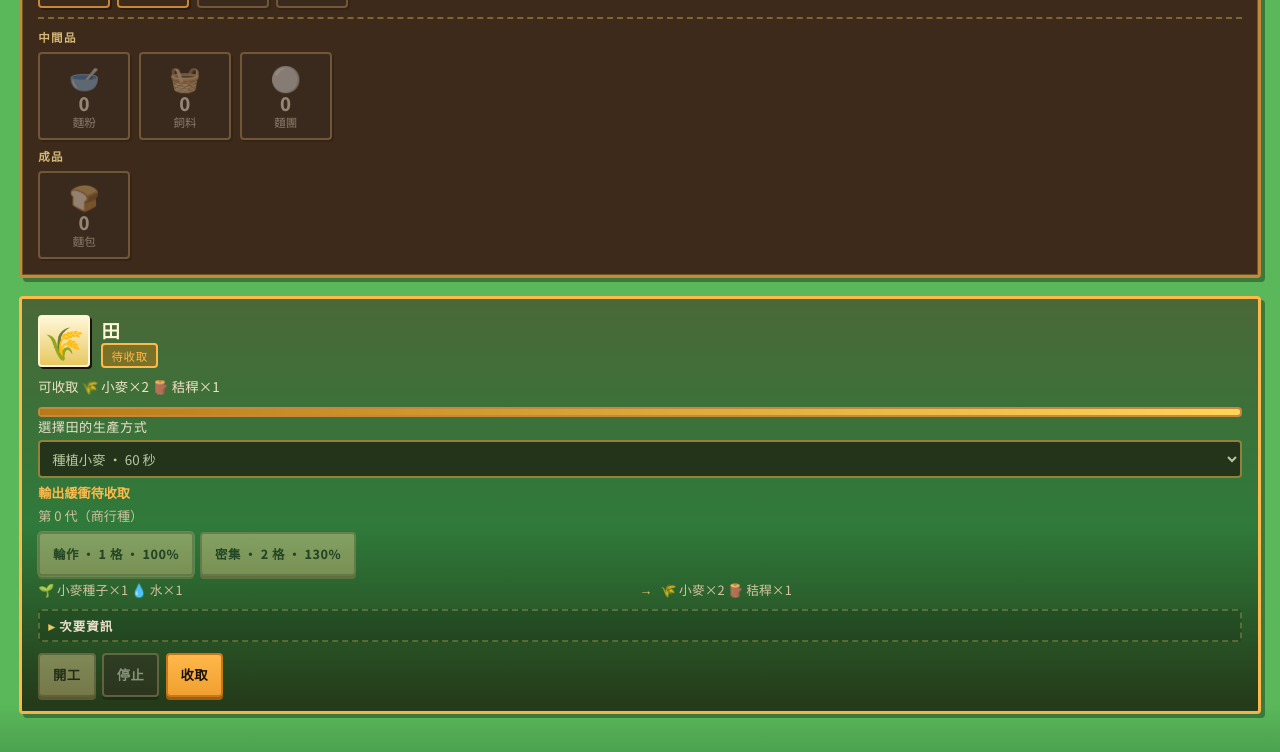
it: App P0 stale building action refresh › refreshes state after HTTP 409 on collect
(page scrolled)
Click the button "收取". click: (194, 674)
box: 166,652 -> 223,696
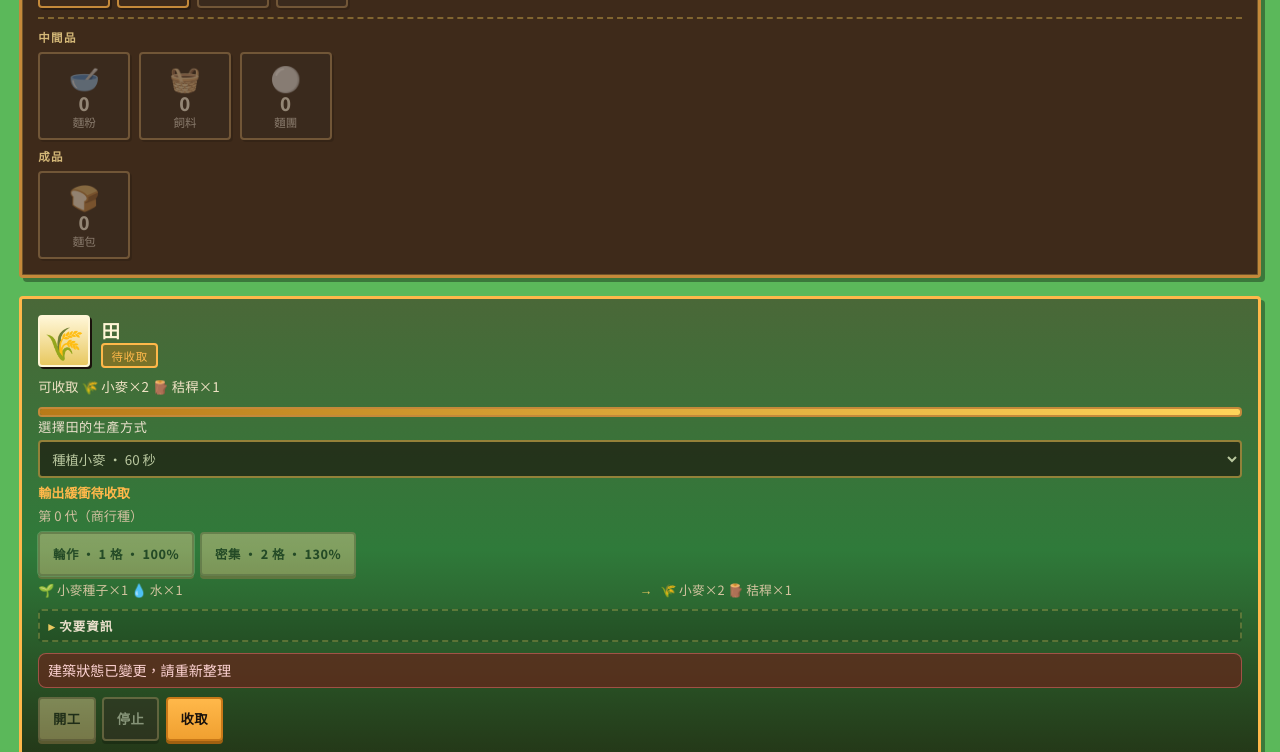
Expected: the message reads "建築狀態已變更，請重新整理", 48,660 -> 231,680
